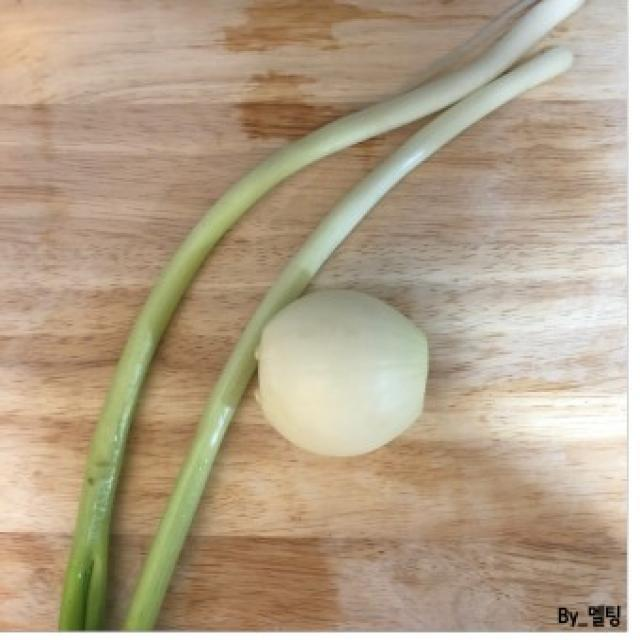onion: (253, 284, 441, 459)
